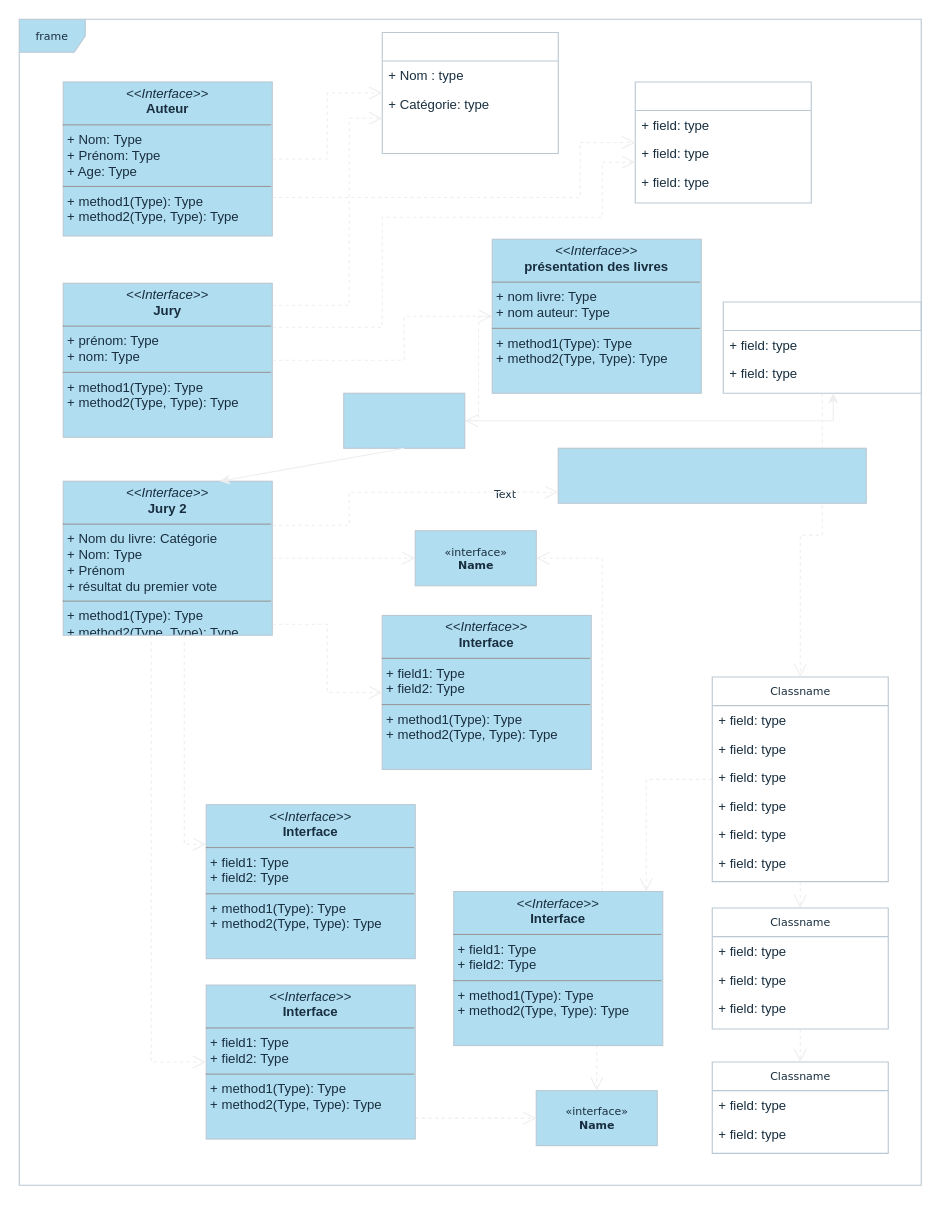
Image size: 947x1205. Some labels were removed from this diagram. Here are the shapes that lost their labels. From the top down, the box of each, then its label:
(381, 31, 558, 153): Livre
(634, 81, 811, 203): Editeur
(722, 301, 921, 393): Classement des livres du premier vote
(343, 392, 465, 448): «interface» Vote 1
(557, 447, 866, 503): «interface» présentation de la deuxième liste des livres
